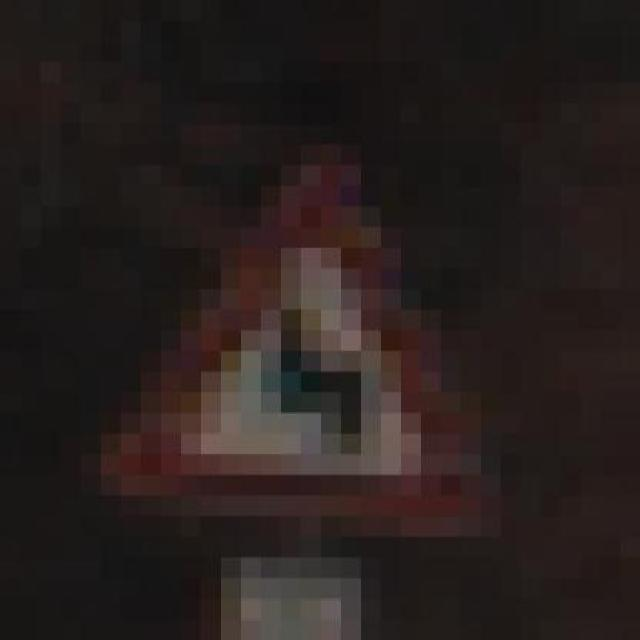Left Zig Zag Traffic: (100, 144, 520, 558)
